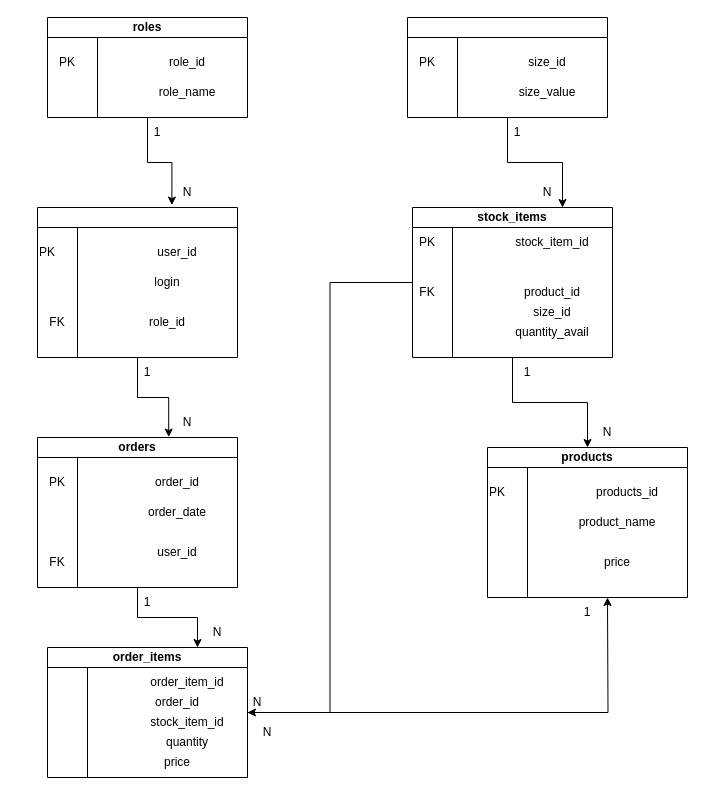
This 705x796 diagram has some shape labels left out. The shapes that lost their labels are listed below. From the top down, each one's box as (x1, y1, x2, y2) in pixels, then its label:
(406, 16, 608, 118): sizes
(36, 206, 238, 358): users
